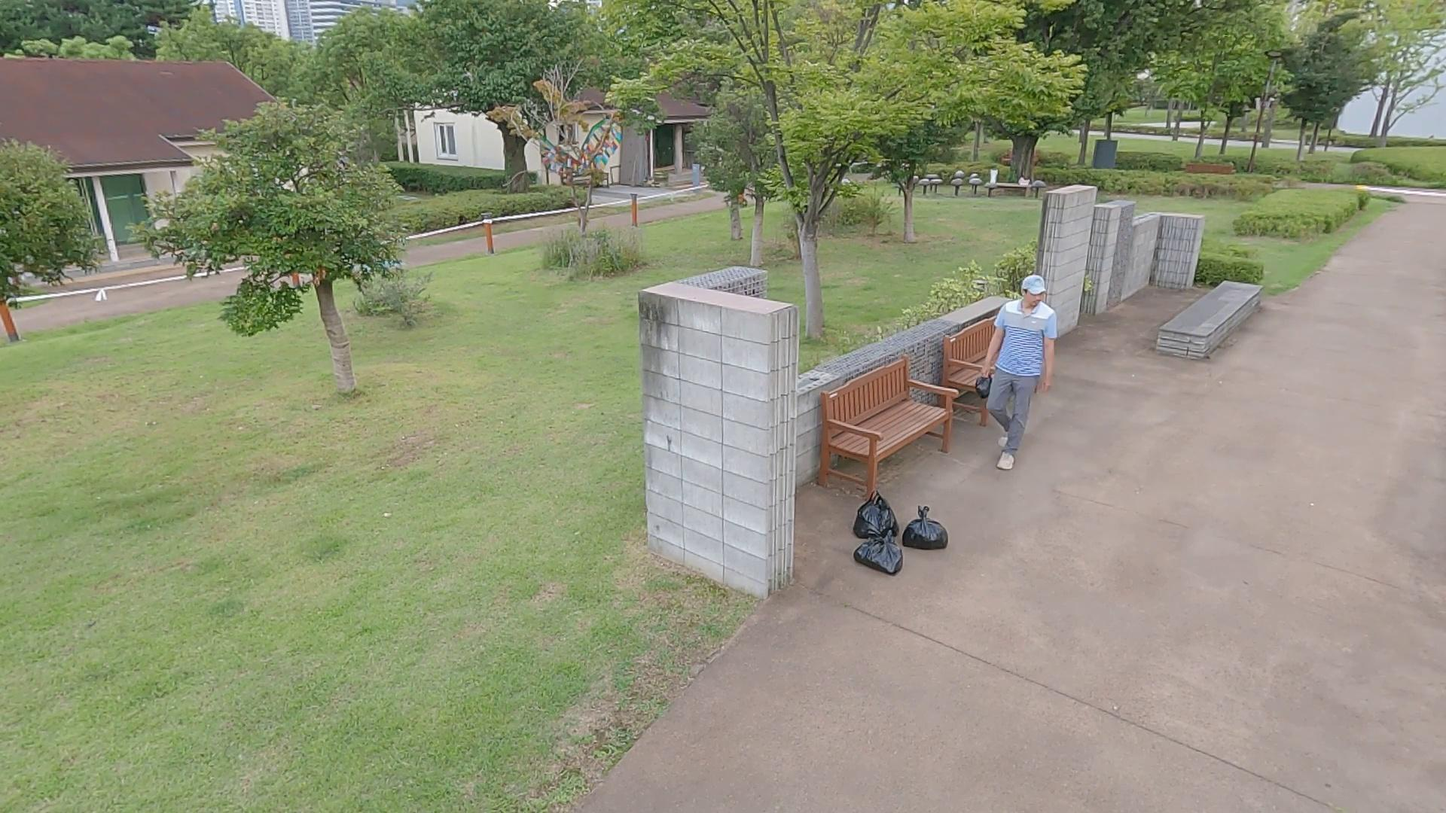person: (980, 273, 1060, 472)
trash: (848, 526, 906, 579), (850, 489, 900, 537), (899, 501, 948, 549), (974, 371, 993, 399)
